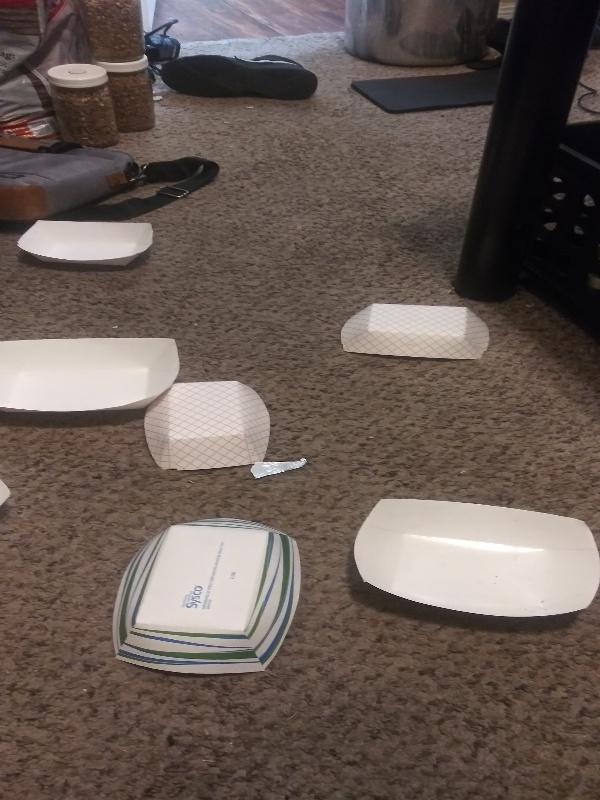plate: (348, 496, 600, 631), (105, 513, 306, 679), (1, 330, 186, 430), (140, 378, 276, 475), (336, 299, 496, 365), (14, 215, 161, 273)
